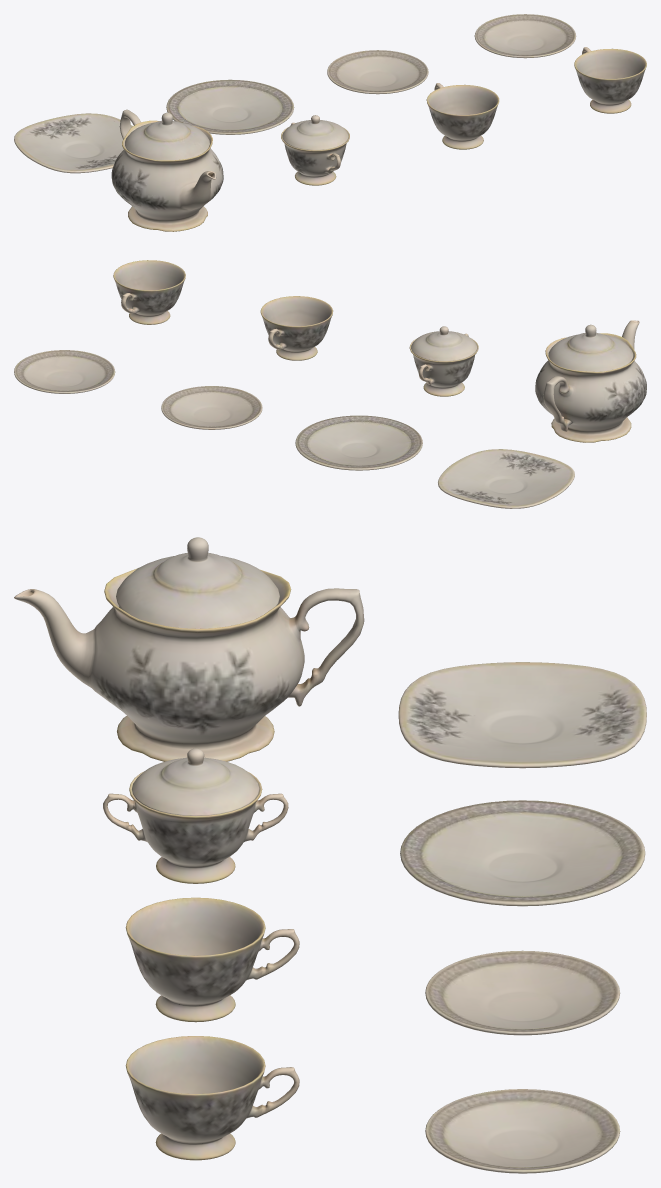
Rendered from tea_set_01.glb.
The picture shows the model from 3 angles, top to bottom: view 1: azimuth 30°, elevation 25°; view 2: azimuth 150°, elevation 25°; view 3: azimuth 270°, elevation 25°; orthographic projection. The views are drawn at different scales.
Parts seen in each view (by area): view 1: tea_set_01_plate_large_square_01; view 2: tea_set_01_plate_large_square_01; view 3: tea_set_01_plate_large_square_01.
Boxes of the visible parts, x1=… form: tea_set_01_plate_large_square_01: x1=14, y1=14, x2=646, y2=231; tea_set_01_plate_large_square_01: x1=14, y1=260, x2=646, y2=508; tea_set_01_plate_large_square_01: x1=14, y1=537, x2=646, y2=1173.
Size of the model in its own units: 0.9185 by 0.165 by 0.4839.
1 material, 1 textured.
